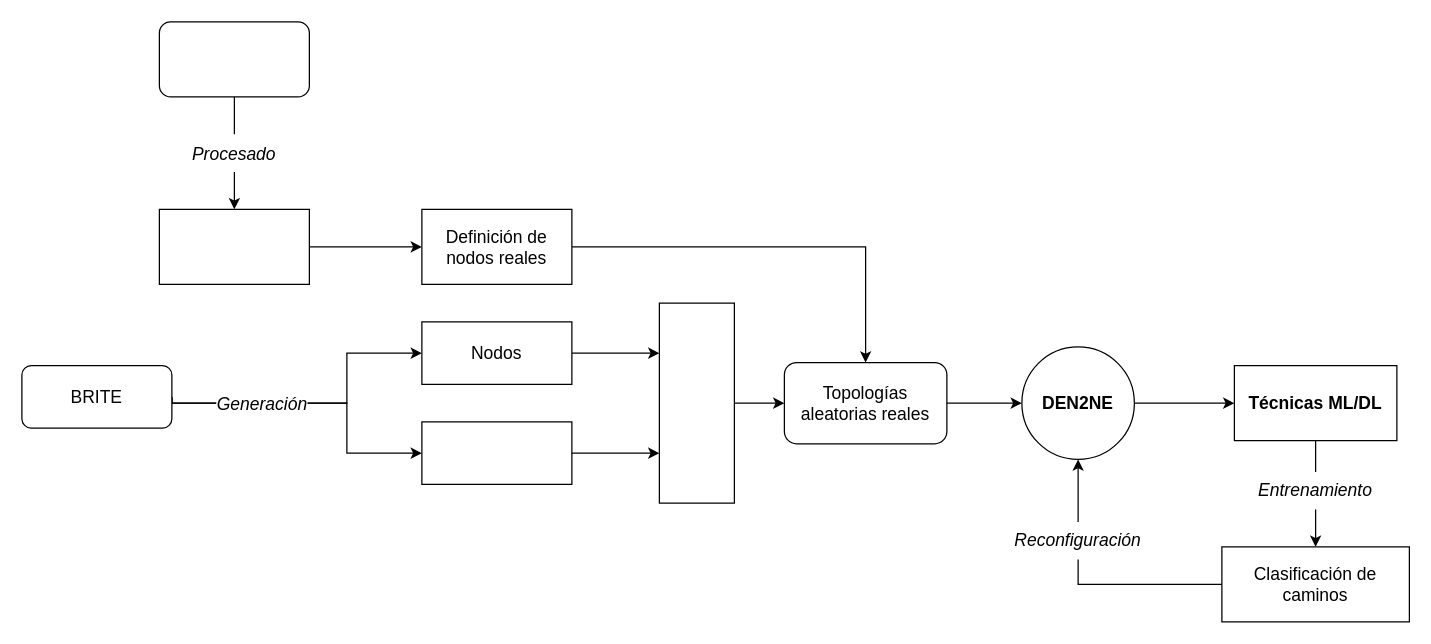
Image size: 1431x644. Some labels were removed from this diagram. Here are the shapes that lost their labels. From the top down, the centre of each, then its label:
point 233,59: Datasets originales
point 233,246: Datasets procesados
point 696,402: P A R S E R
point 496,452: Enlaces
